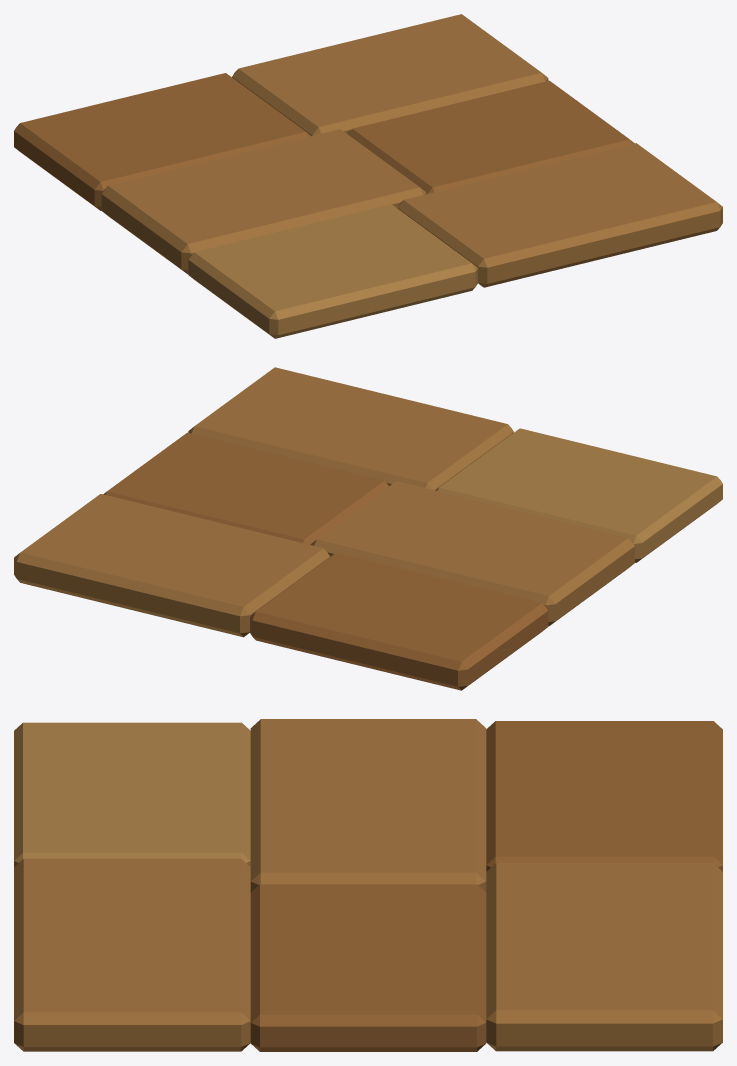
File: StoneWalkway.glb
The picture shows the model from 3 angles, top to bottom: view 1: azimuth 30°, elevation 25°; view 2: azimuth 150°, elevation 25°; view 3: azimuth 270°, elevation 25°; orthographic projection. The views are drawn at different scales.
Visible parts, largest first — view 1: StoneWalkway_StonesMid, StoneWalkway_StonesWarm, StoneWalkway_StonesLight; view 2: StoneWalkway_StonesMid, StoneWalkway_StonesWarm, StoneWalkway_StonesLight; view 3: StoneWalkway_StonesMid, StoneWalkway_StonesWarm, StoneWalkway_StonesLight.
Part boxes in pixels (x1,y1,x2,y2): StoneWalkway_StonesMid: (101, 14, 722, 287); StoneWalkway_StonesWarm: (14, 73, 634, 210); StoneWalkway_StonesLight: (188, 204, 477, 338); StoneWalkway_StonesMid: (14, 367, 634, 637); StoneWalkway_StonesWarm: (103, 432, 548, 690); StoneWalkway_StonesLight: (435, 428, 722, 562); StoneWalkway_StonesMid: (14, 719, 722, 1051); StoneWalkway_StonesWarm: (250, 721, 722, 1051); StoneWalkway_StonesLight: (14, 722, 250, 866).
Size of the model in its own units: 1 by 0.064 by 1.
